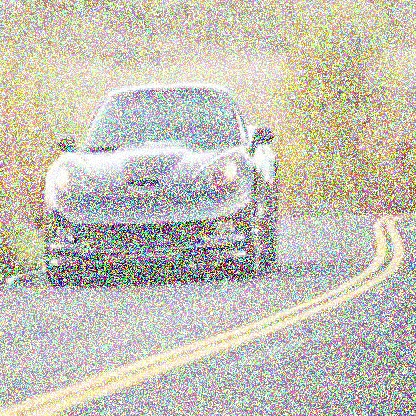Vehicle: (39, 73, 287, 291)
